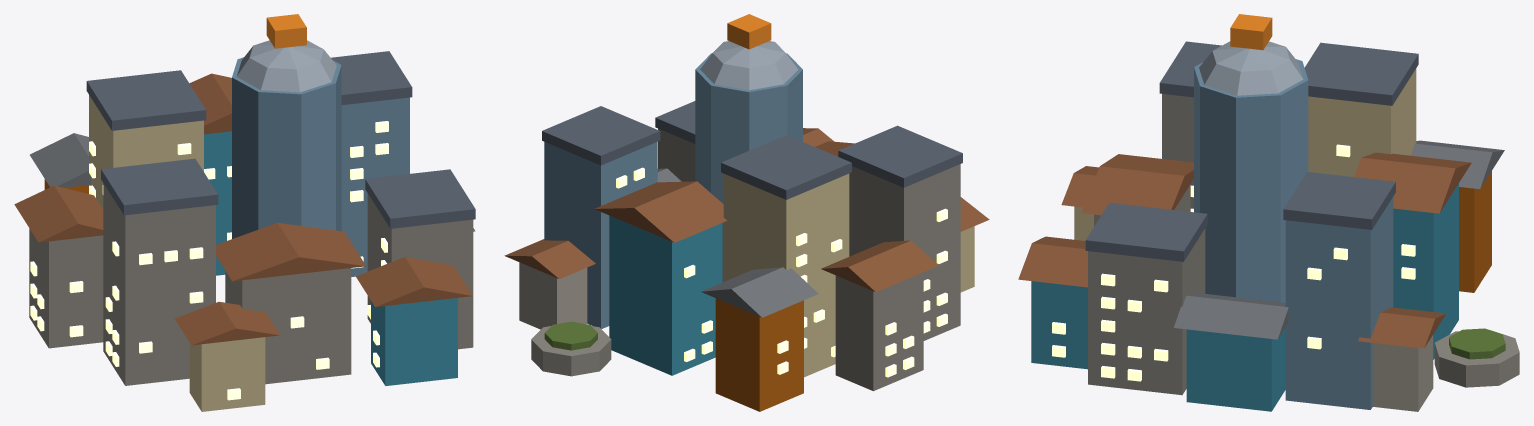
Rendered from overworld-settlement-african-city.glb.
The picture shows the model from 3 angles, left to right: view 1: azimuth 30°, elevation 25°; view 2: azimuth 150°, elevation 25°; view 3: azimuth 270°, elevation 25°; orthographic projection. The views are drawn at different scales.
Parts seen in each view (by area): view 1: settlement; view 2: settlement; view 3: settlement.
Part boxes in pixels (left/top/right/bottom): settlement: left=14, top=14, right=475, bottom=411; settlement: left=504, top=14, right=989, bottom=411; settlement: left=1018, top=14, right=1519, bottom=411.
Bounding box in the file's own units: 0.4915 × 0.3461 × 0.513.
